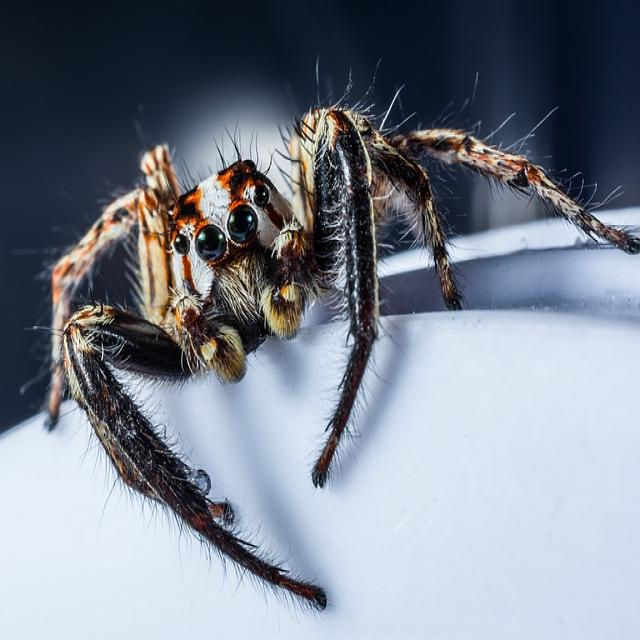spyder: (49, 105, 640, 604)
